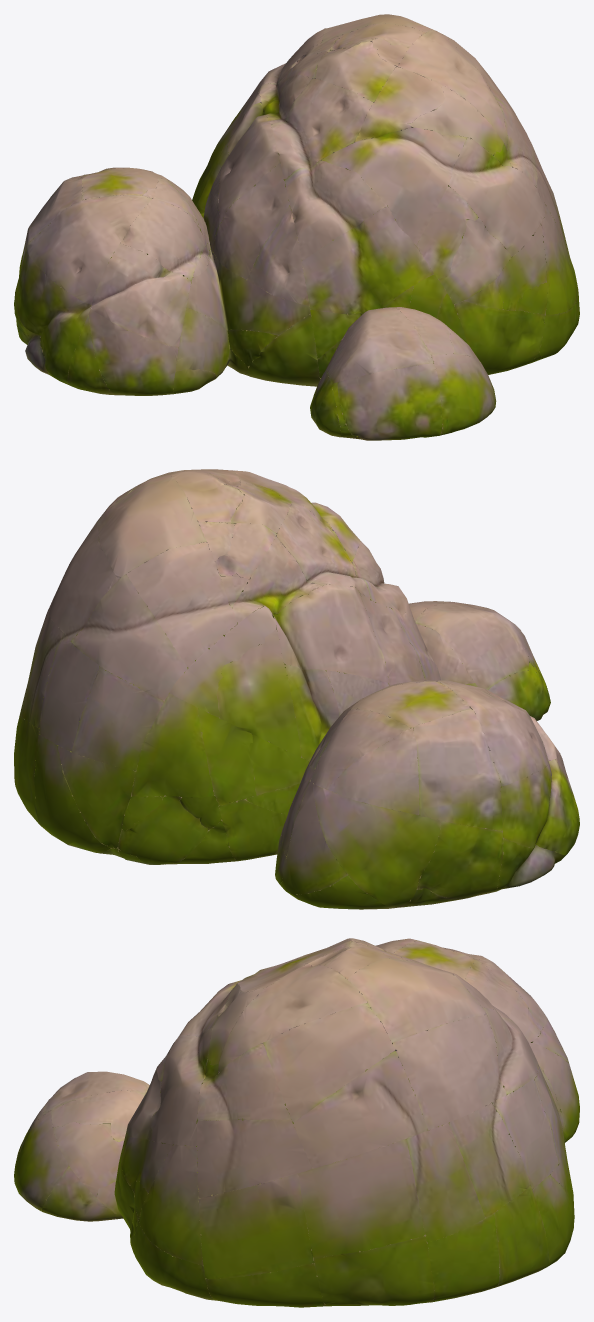
The model's file is mosslit-stones.glb.
The picture shows the model from 3 angles, top to bottom: view 1: azimuth 30°, elevation 25°; view 2: azimuth 150°, elevation 25°; view 3: azimuth 270°, elevation 25°; orthographic projection. The views are drawn at different scales.
Parts seen in each view (by area): view 1: mesh_node; view 2: mesh_node; view 3: mesh_node.
Boxes of the visible parts, x1=… form: mesh_node: x1=14, y1=14, x2=579, y2=440; mesh_node: x1=14, y1=469, x2=579, y2=909; mesh_node: x1=14, y1=938, x2=579, y2=1307.
Size of the model in its own units: 1.9 by 1.08 by 1.85.
1 material, 1 textured.
